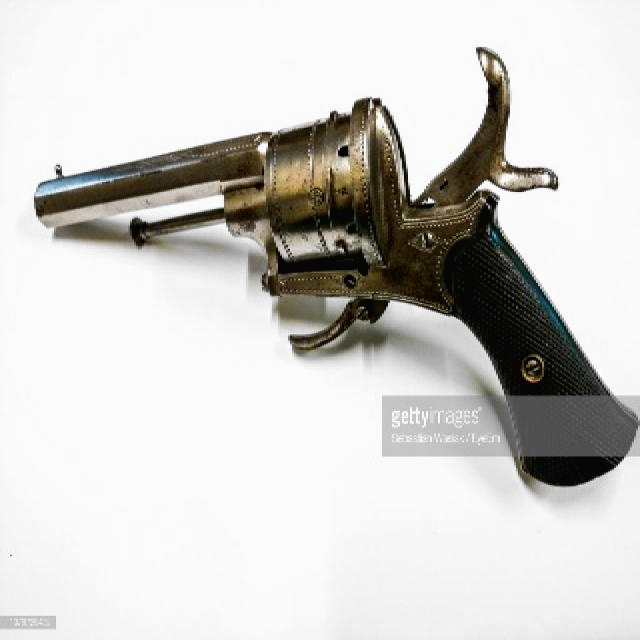gun: (30, 36, 638, 485)
